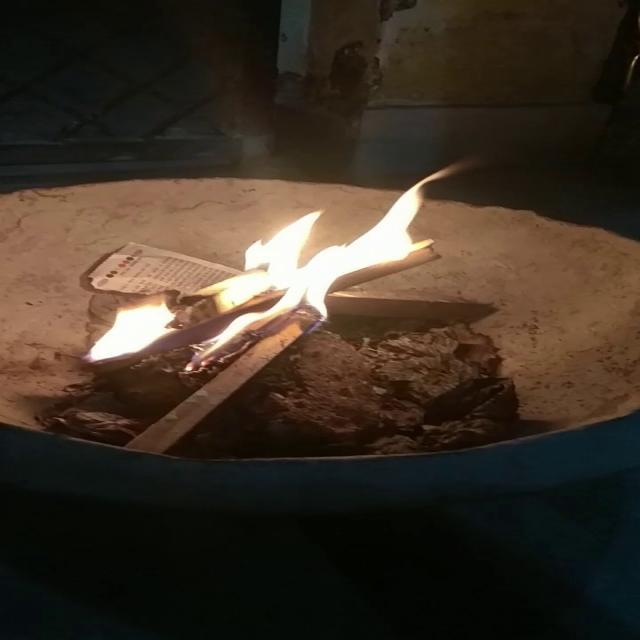Fire: (76, 187, 447, 367)
